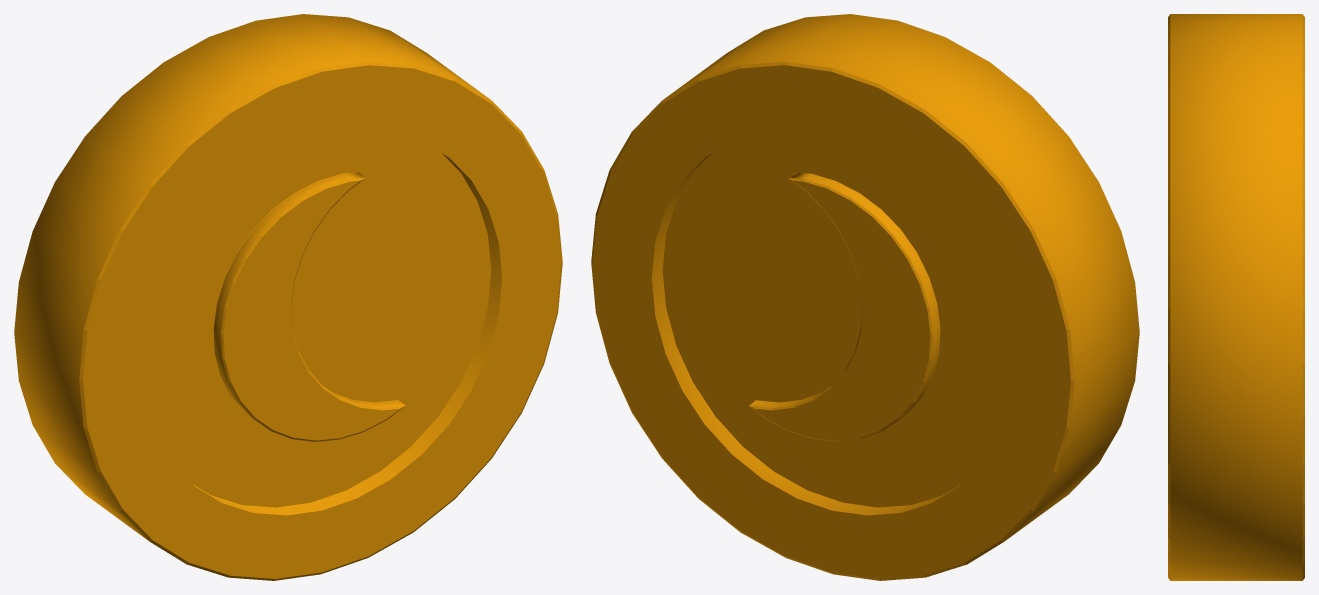
Rendered from coin.glb.
3 renders of one model, left to right at view 1: azimuth 30°, elevation 25°; view 2: azimuth 150°, elevation 25°; view 3: azimuth 270°, elevation 25°, orthographic.
Parts seen in each view (by area): view 1: coin; view 2: coin; view 3: coin.
Part boxes in pixels (left/top/right/bottom): coin: left=14, top=14, right=562, bottom=580; coin: left=591, top=14, right=1139, bottom=580; coin: left=1168, top=14, right=1304, bottom=580.
Size of the model in its own units: 0.6322 by 0.6322 by 0.1523.
